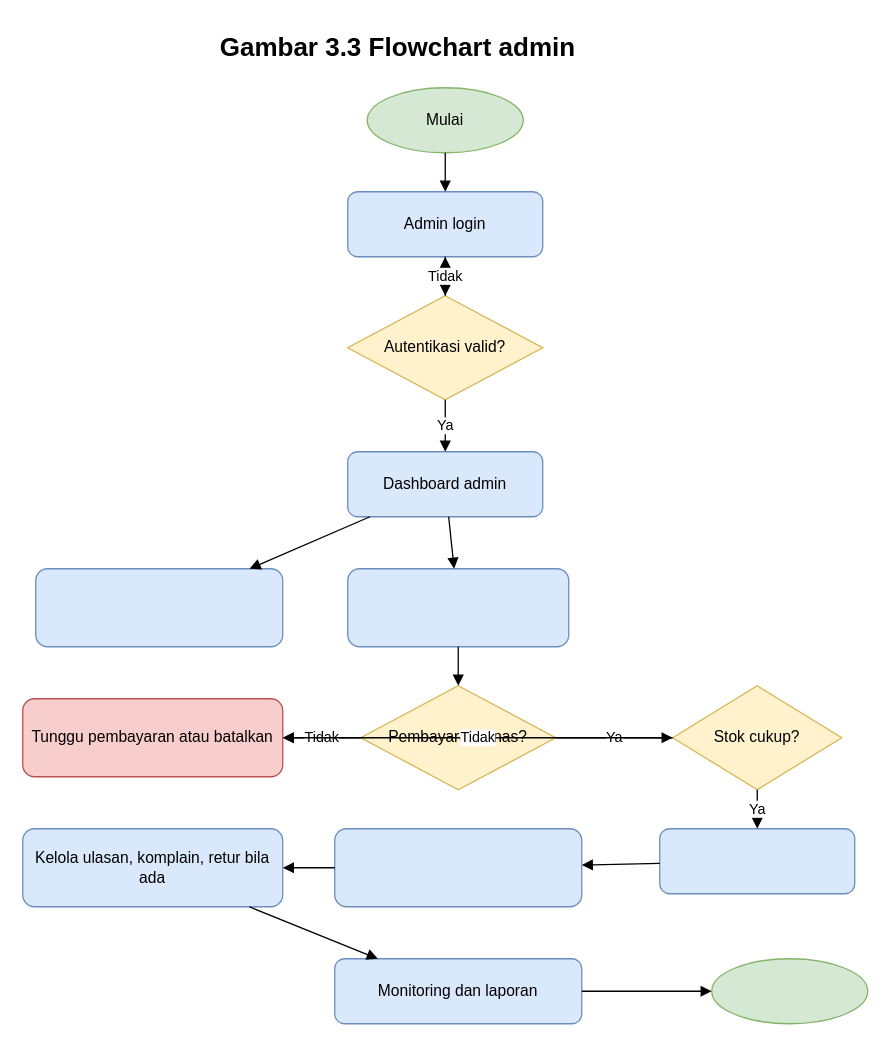
Some shapes in this 890 by 1047 pixel diagram are drawn without their labels. The centre of each missing label's shape, as x and y in pixels:
Atur pengiriman, resi, status: (457,867)
Kelola pesanan masuk: (457,607)
Kelola produk, kategori, stok: (158,607)
Proses pesanan: (756,860)
Selesai: (789,990)
